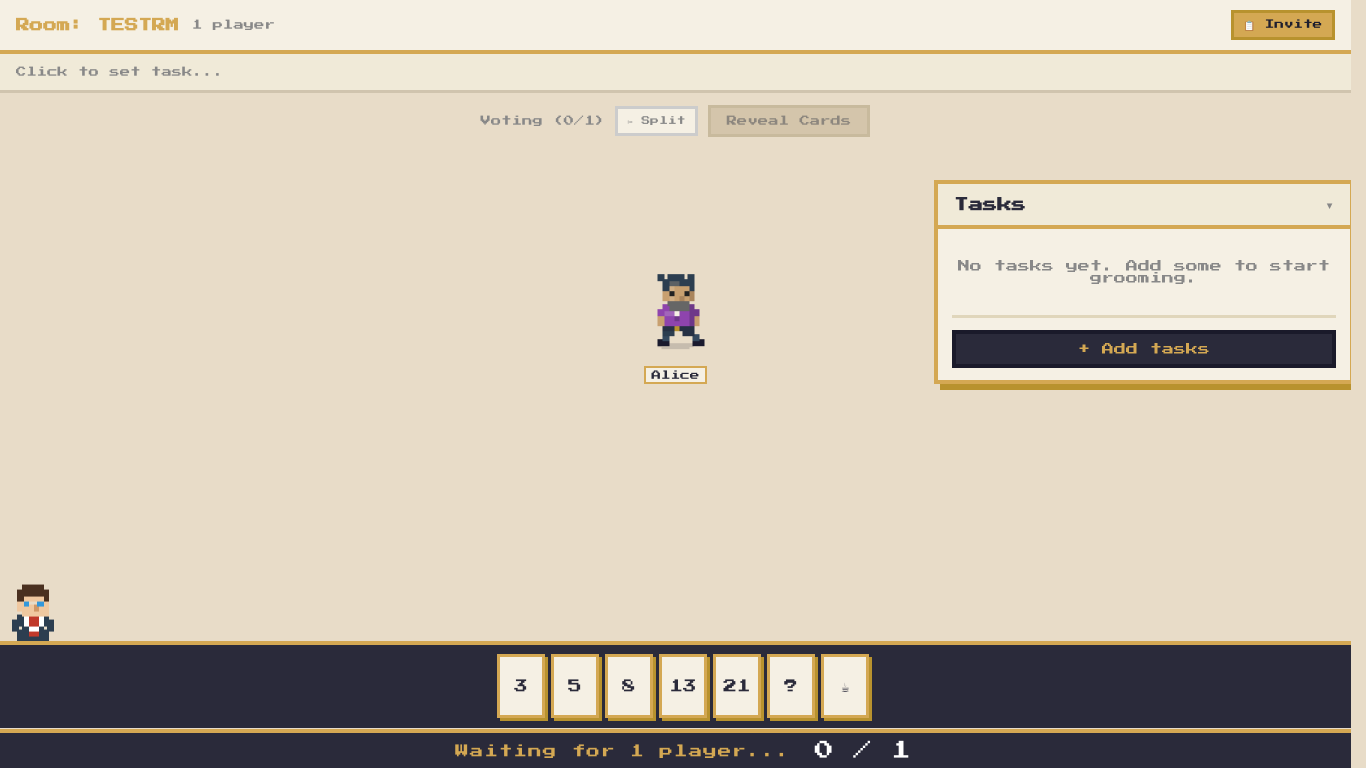
Test: Room — rendering & controls › Y6: clipboard rejection opens the fallback modal with the URL
The width and height of the screenshot is (1366, 768).
Click the button "📋 Invite".
click(1283, 25)  # box [1231,10,1335,40]
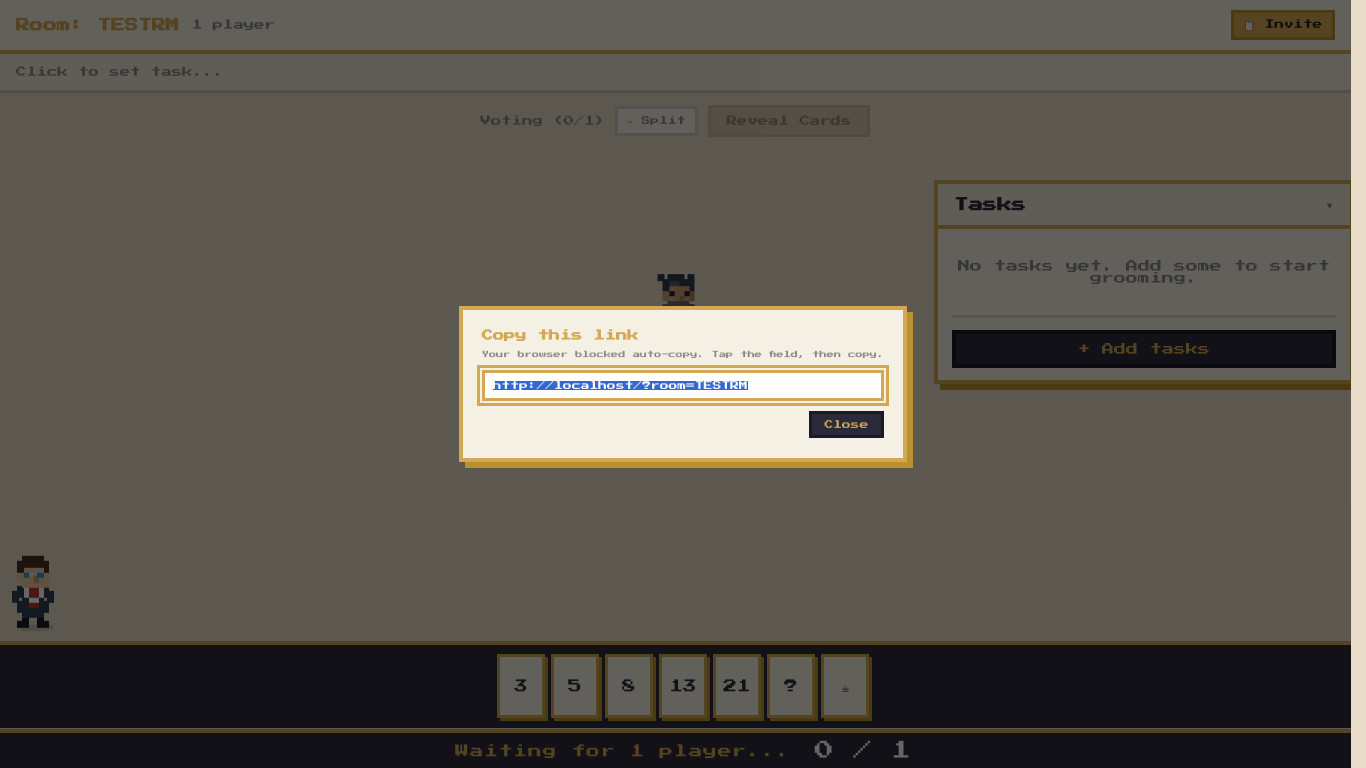
Expected: the text "Copy this link" is shown, [482,330,638,341]
